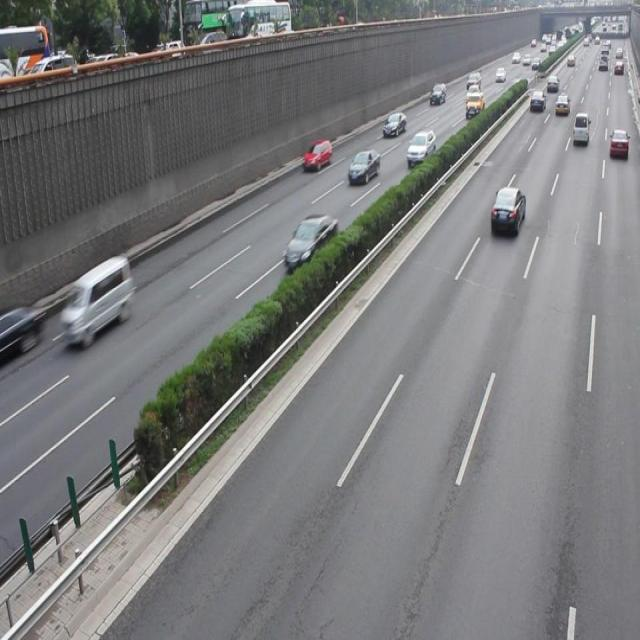car: (283, 213, 338, 269), (1, 300, 44, 358), (489, 184, 524, 234), (347, 149, 379, 184), (302, 137, 331, 172)
truck: (60, 254, 134, 347)
